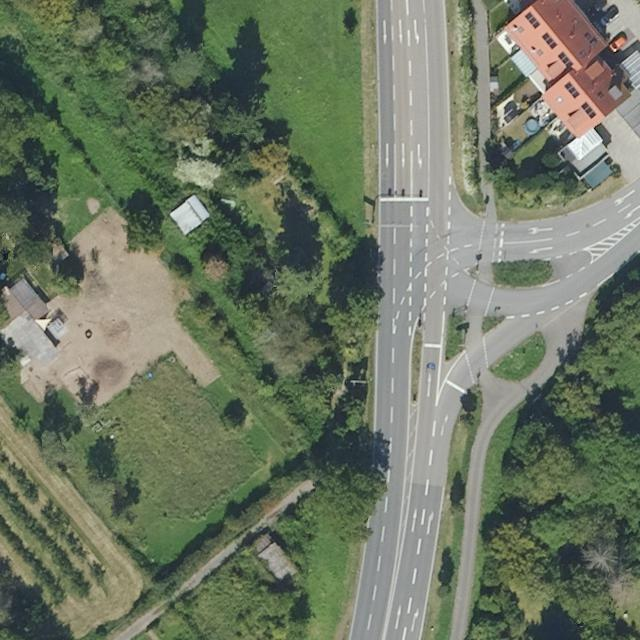PV: (562, 79, 583, 101), (540, 30, 560, 52), (556, 50, 576, 70), (523, 11, 542, 30), (580, 101, 598, 120)
